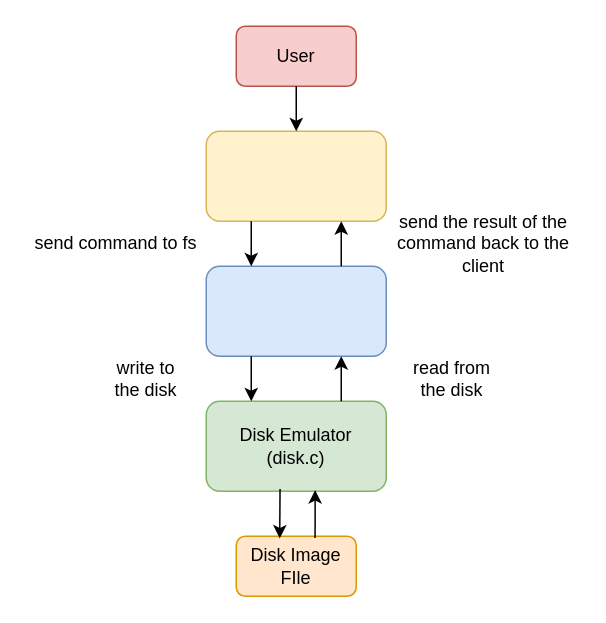
Image size: 606x623. Some labels were removed from this diagram. Each missing label, with the centre of its shape:
"File System (fs.c)" goes at [295,310].
"Shell Program (client.c)" goes at [295,175].
